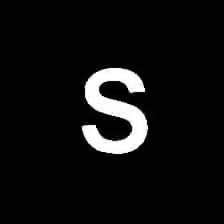LTR_S: (77, 59, 151, 158)
